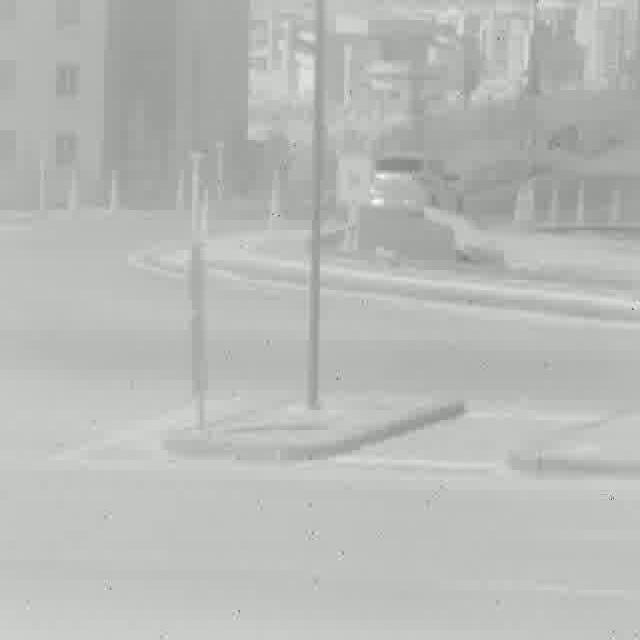Car: (371, 155, 464, 216)
